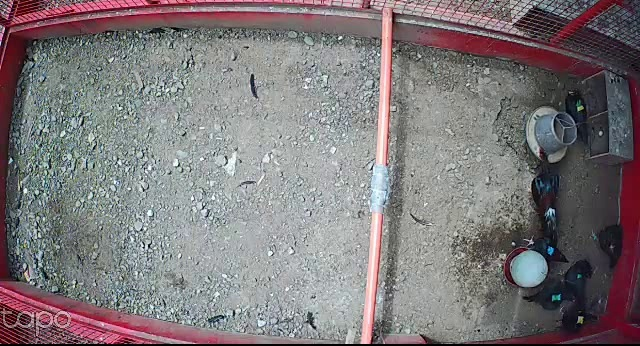Chicken: (556, 257, 595, 314), (588, 221, 626, 274), (553, 299, 600, 335), (564, 87, 591, 147), (522, 233, 571, 265), (524, 282, 577, 311)
Drinker: (503, 249, 549, 289)
Feeder: (524, 106, 579, 164)
Rooster: (530, 146, 561, 246)
Saddle_Color_Blue: (546, 246, 554, 256)
Saddle_Color_Yellow: (574, 315, 584, 325)
Saddle_Color_YellowGreen: (574, 100, 585, 113)
